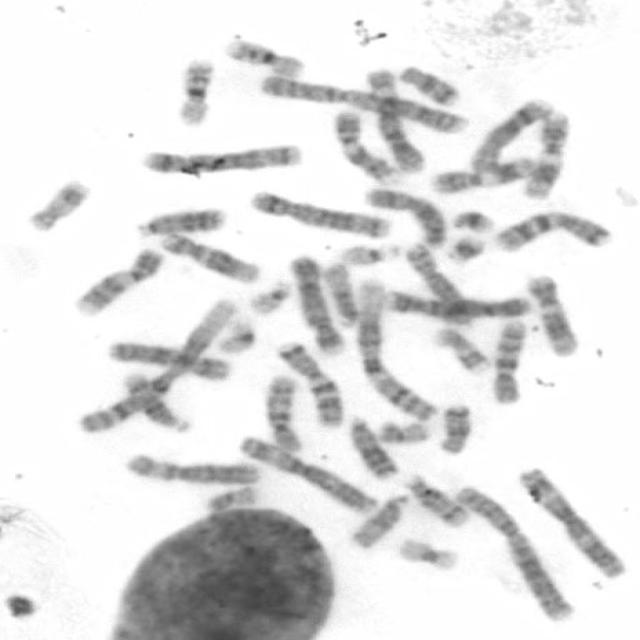A1: (72, 294, 245, 436), (352, 274, 441, 424)
A2: (448, 479, 578, 624), (253, 71, 473, 137)
A3: (512, 459, 629, 580), (234, 431, 380, 515)
B4: (284, 251, 349, 356), (379, 285, 531, 321)
B5: (244, 186, 395, 240), (135, 138, 306, 176)
C10: (486, 314, 531, 406), (258, 371, 305, 453)
C11: (516, 108, 572, 202), (426, 151, 540, 195)
C12: (156, 228, 265, 285), (520, 269, 582, 358)
C6: (362, 62, 428, 175), (120, 449, 265, 487)
C7: (270, 336, 348, 431), (488, 206, 614, 254)
C8: (464, 94, 553, 174), (398, 238, 474, 330)
C9: (69, 243, 165, 318), (328, 104, 403, 185)
D13: (342, 409, 400, 482), (130, 204, 228, 239)
D14: (116, 367, 193, 434), (400, 471, 470, 528)
D15: (345, 490, 411, 551), (320, 258, 360, 327)
E16: (219, 34, 308, 79), (168, 54, 217, 128)
E17: (21, 172, 94, 235), (429, 323, 491, 376)
E18: (394, 60, 464, 107), (434, 401, 474, 456)
F19: (393, 534, 461, 572), (212, 317, 258, 355)
F20: (200, 480, 261, 514), (374, 416, 430, 446)
G21: (441, 231, 487, 264), (447, 205, 496, 234)
G22: (243, 276, 292, 316), (335, 239, 404, 267)
X: (102, 336, 235, 383), (360, 184, 448, 249)
